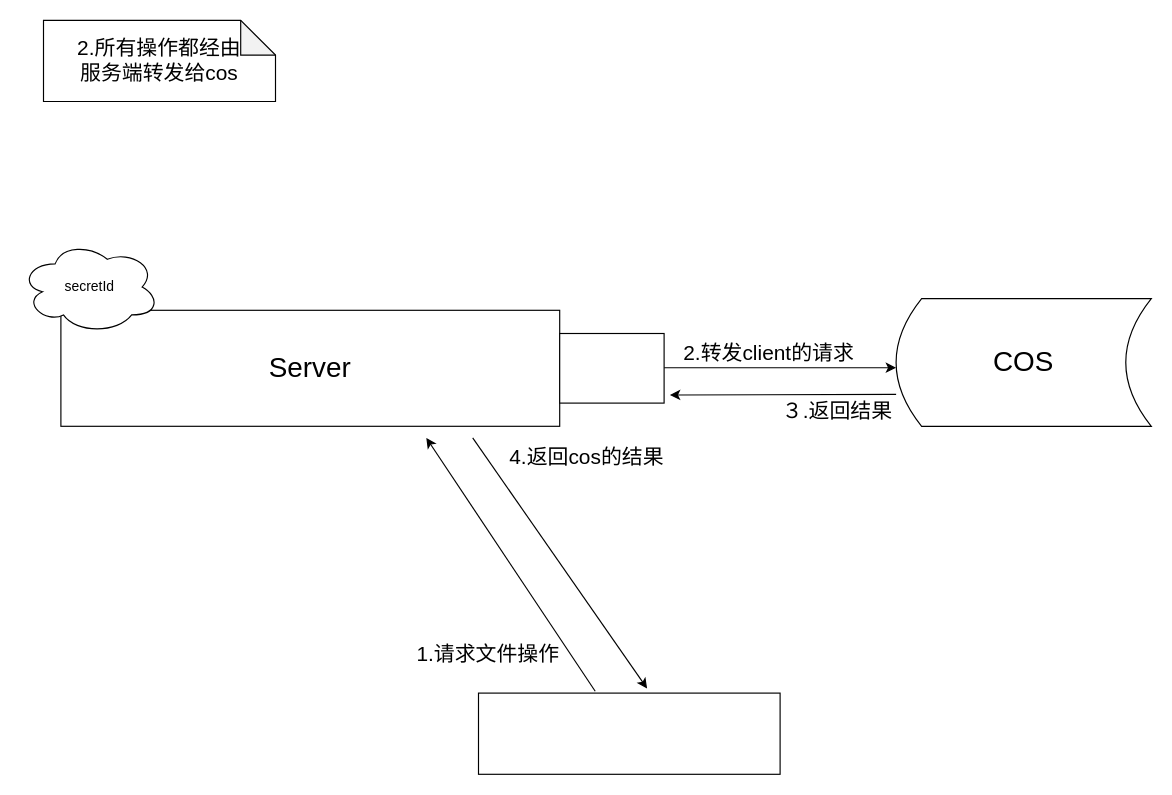
Image size: 1172x795. Some labels were removed from this diagram. Each missing label, with the centre of its shape:
"Client" belongs at point (628, 733).
"cos-sdk" belongs at point (611, 367).
